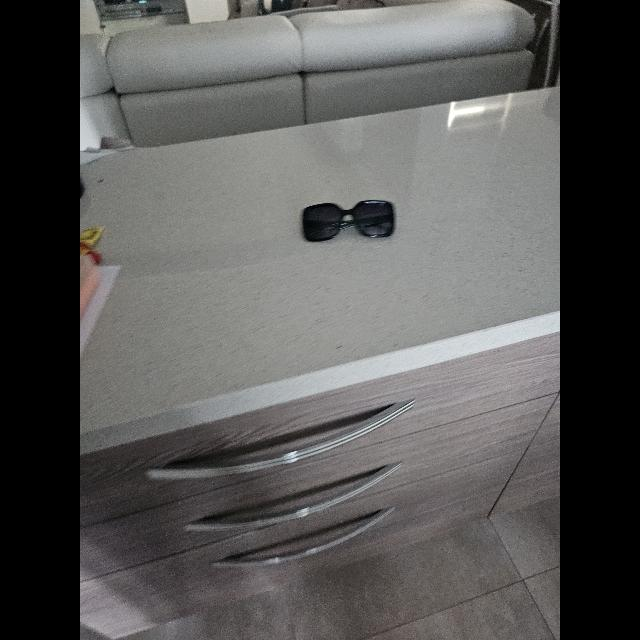Sunglasses: (303, 200, 395, 242)
